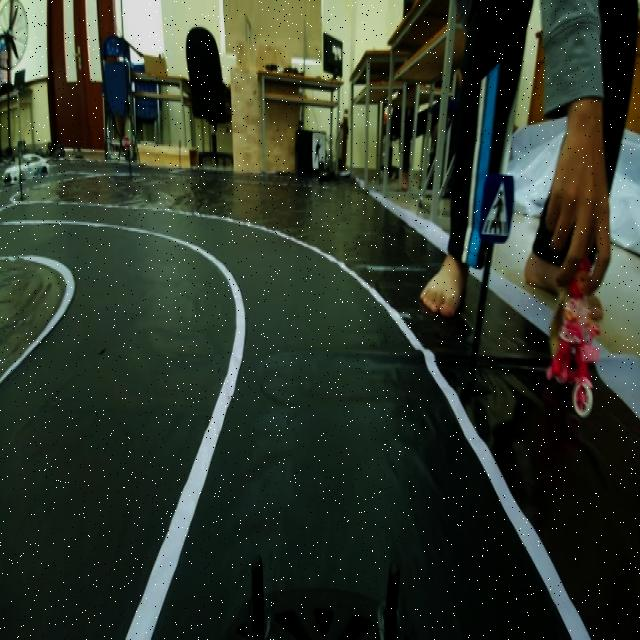crosswalk: (479, 174, 513, 246)
pedestrian: (547, 248, 609, 422)
